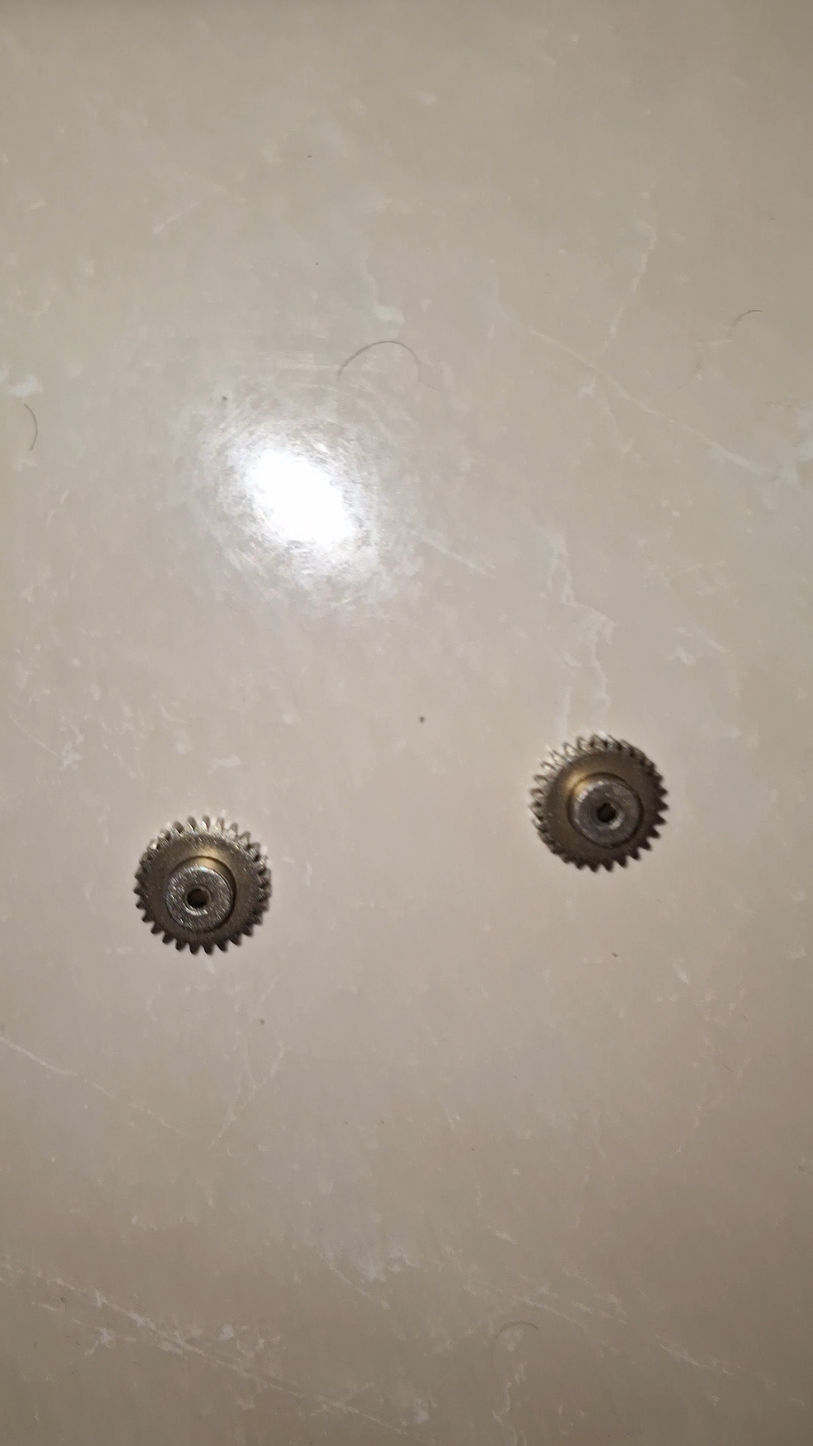spur gear: (134, 817, 270, 953), (531, 735, 667, 870)
